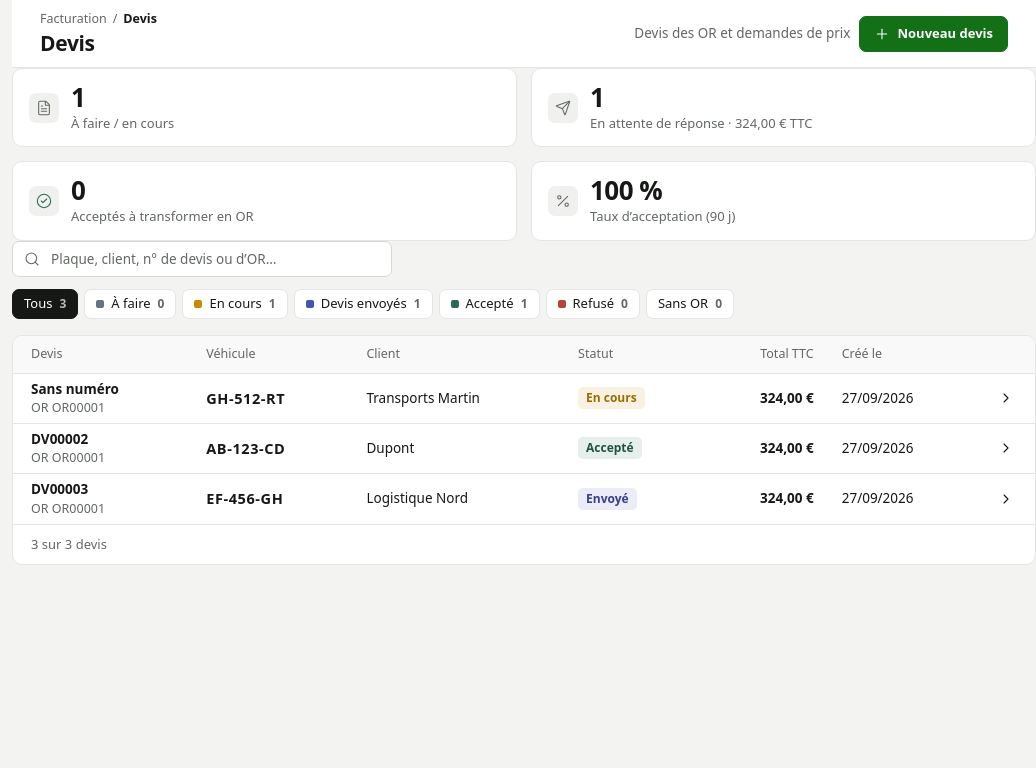
it: liste des devis › tous les devis par défaut, filtres et recherche
The width and height of the screenshot is (1036, 768).
Expected: the text "Transports Martin" is shown, [352, 374, 564, 424]
Expected: the text "Dupont" is shown, [352, 424, 564, 474]
Click the button "Accepté 1". click: (489, 304)
box: [438, 289, 540, 319]
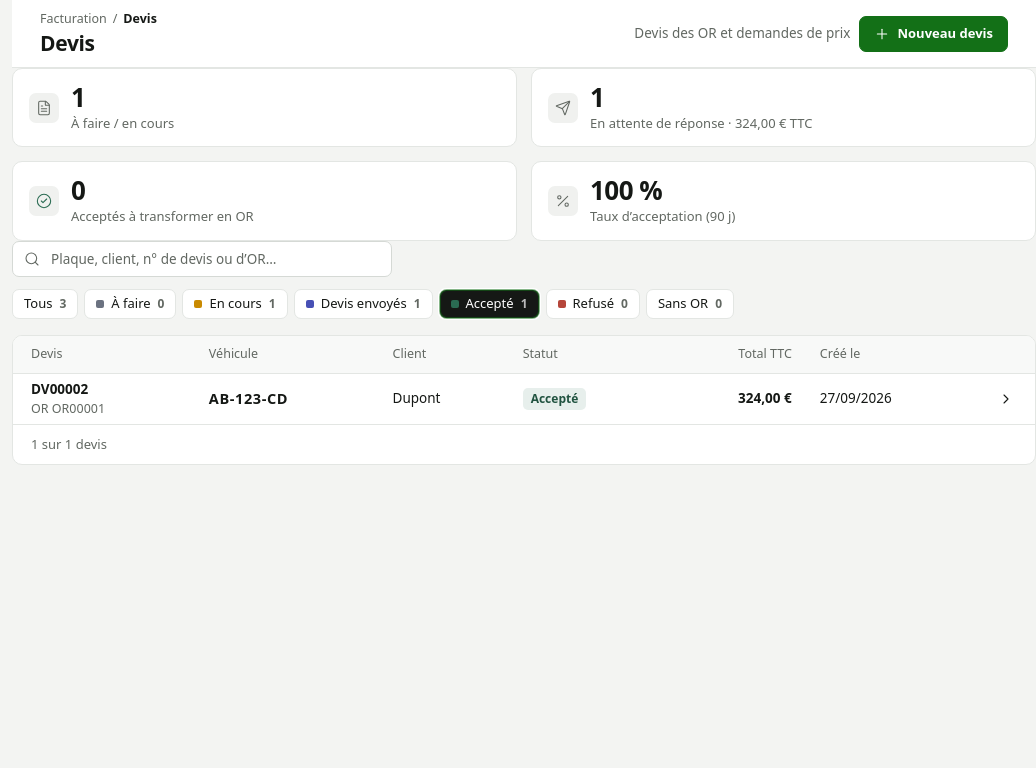
Expected: the text "Dupont" is shown, [379, 374, 509, 424]
Now the text "Transports Martin" is gone
Click the button "Tous 3". click: (45, 304)
box: [12, 289, 78, 319]
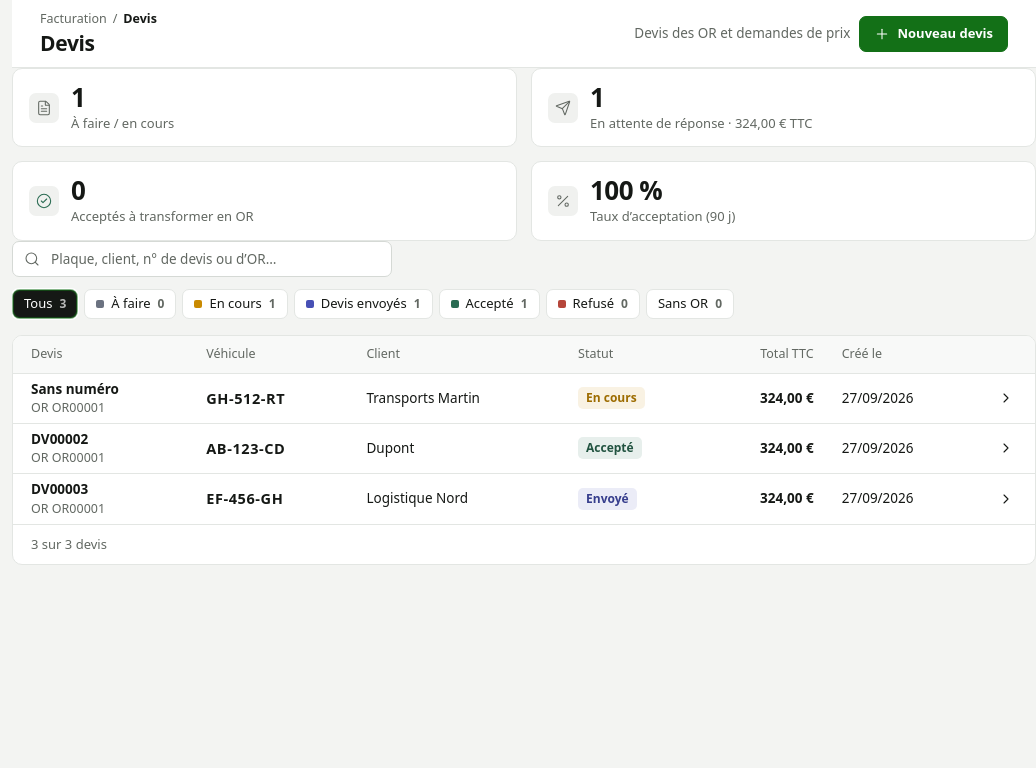
Type "ef456" into the search field named "Rechercher un devis". click: (202, 259)
box: [12, 241, 392, 277]
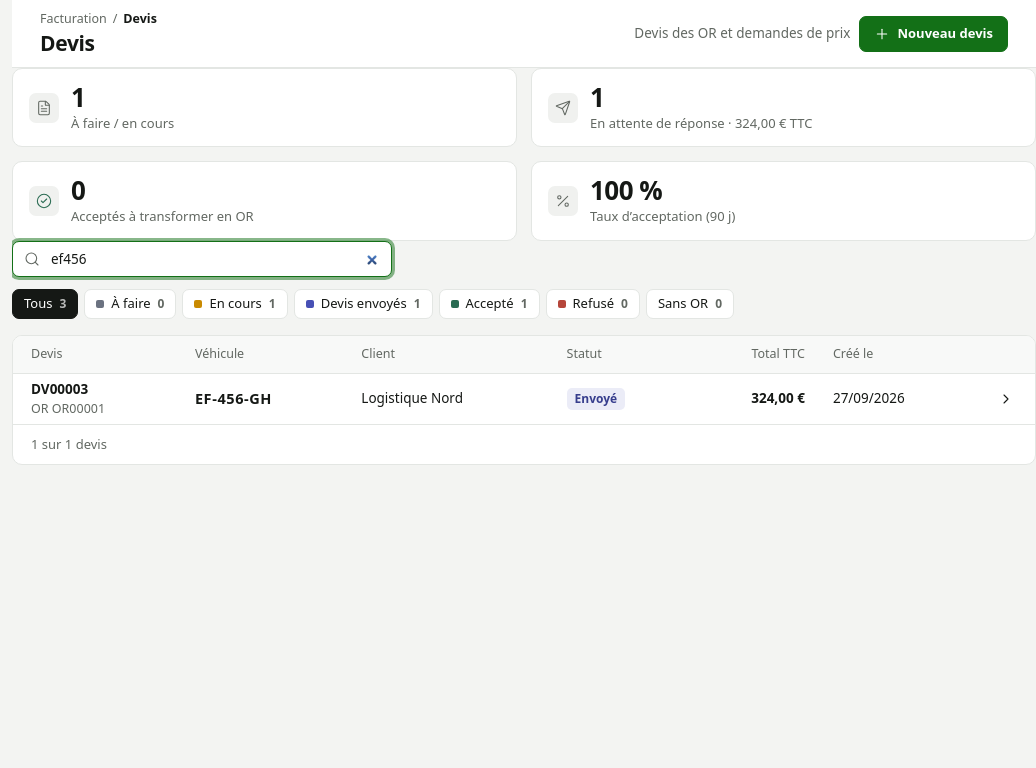
Now the text "Logistique Nord" is shown, box [347, 374, 553, 424]
Now the text "Transports Martin" is gone
